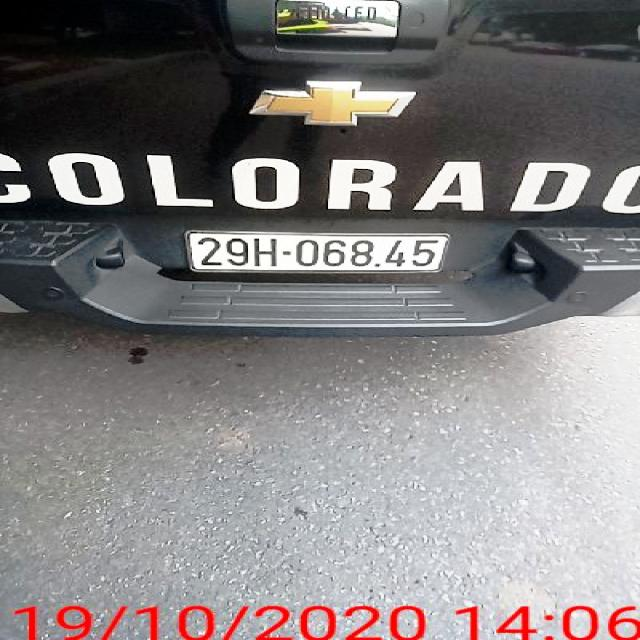license_plate: (188, 232, 450, 274)
